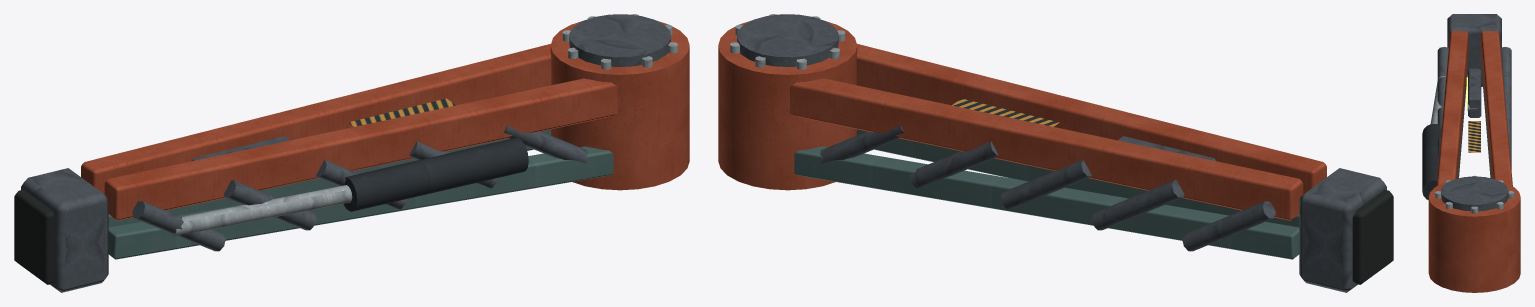
The model's file is arm_starboard.fbx.
3 renders of one model, left to right at view 1: azimuth 30°, elevation 25°; view 2: azimuth 150°, elevation 25°; view 3: azimuth 270°, elevation 25°, orthographic. The views are drawn at different scales.
Visible parts, largest first — view 1: SM_anchor_arm_starboard; view 2: SM_anchor_arm_starboard; view 3: SM_anchor_arm_starboard.
Part boxes in pixels (x1=…): SM_anchor_arm_starboard: x1=14, y1=14, x2=689, y2=292; SM_anchor_arm_starboard: x1=718, y1=14, x2=1393, y2=292; SM_anchor_arm_starboard: x1=1422, y1=14, x2=1520, y2=292.
Bounding box in the file's own units: 2.78 × 0.51 × 0.55.
Materials: 8 (7 with a texture image).
